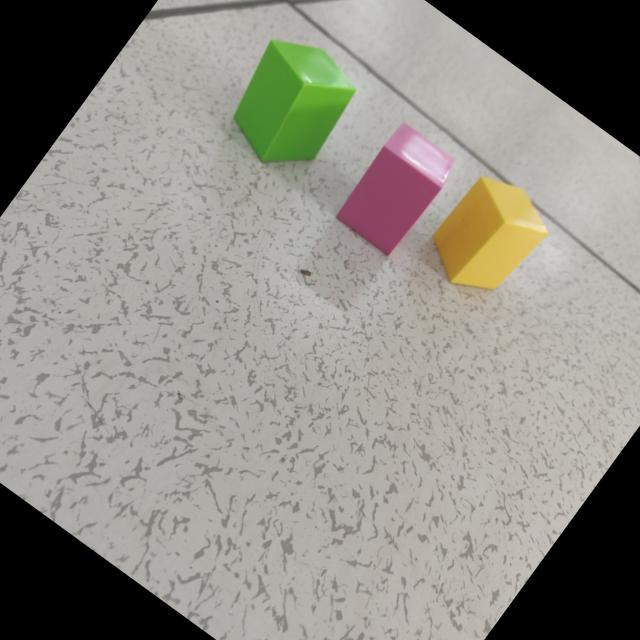green: (232, 40, 355, 164)
pink: (334, 124, 452, 257)
yellow: (431, 176, 547, 292)
